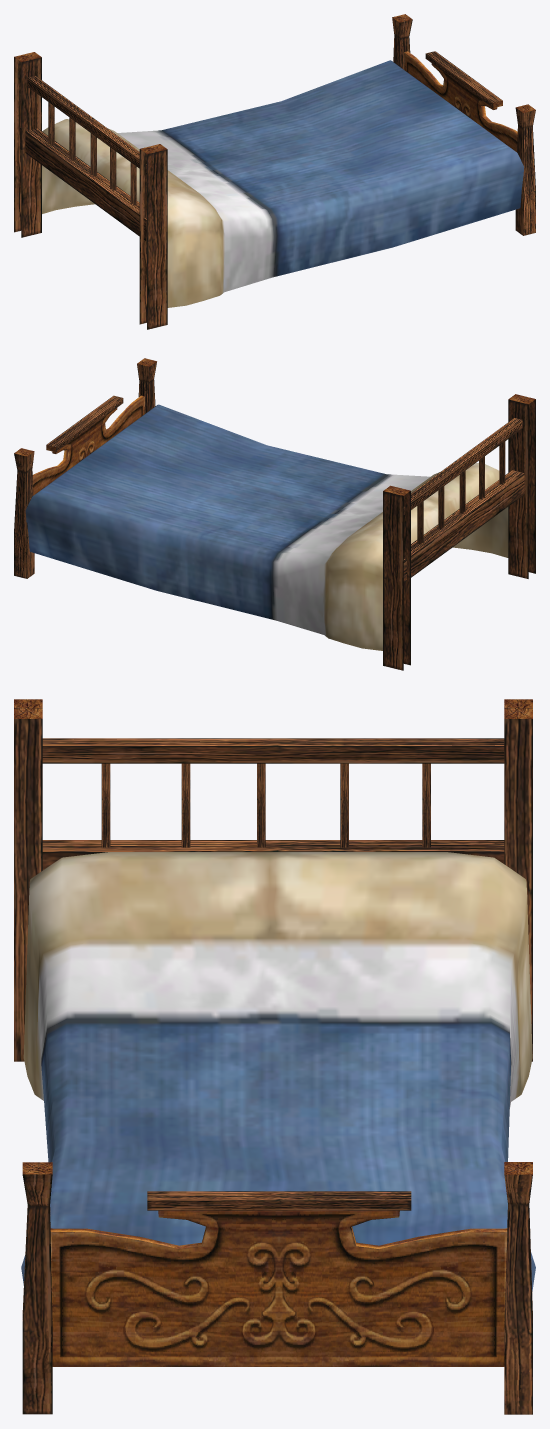
The model's file is INST_LT_BED1.fbx.
3 views of the same model, one above another, from view 1: azimuth 30°, elevation 25°; view 2: azimuth 150°, elevation 25°; view 3: azimuth 270°, elevation 25° (orthographic). The views are drawn at different scales.
Parts seen in each view (by area): view 1: INST_LT_BED1; view 2: INST_LT_BED1; view 3: INST_LT_BED1.
Part boxes in pixels (x1,y1,x2,y2): INST_LT_BED1: (14,14,535,329); INST_LT_BED1: (14,358,535,670); INST_LT_BED1: (14,699,535,1414).
Size of the model in its own units: 23227 by 9959 by 13755.
4 materials, 4 textured.
